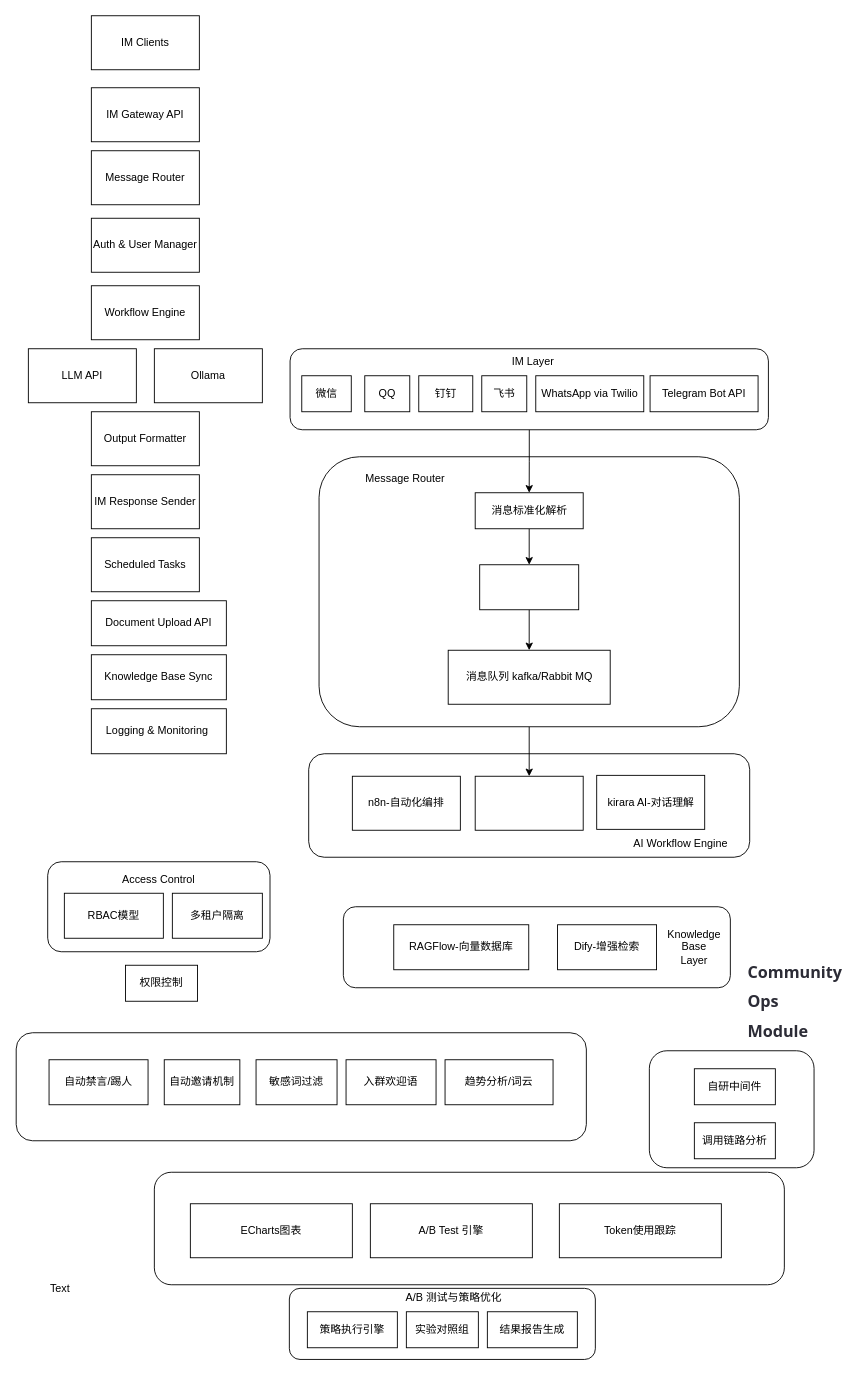
The diagram is 858 pixels wide and 1375 high, and some of its shapes have lost their labels. Each missing label, with the box of its shape:
Dify-Agent调度: (474, 775, 583, 830)
路由引擎: (479, 564, 579, 610)
